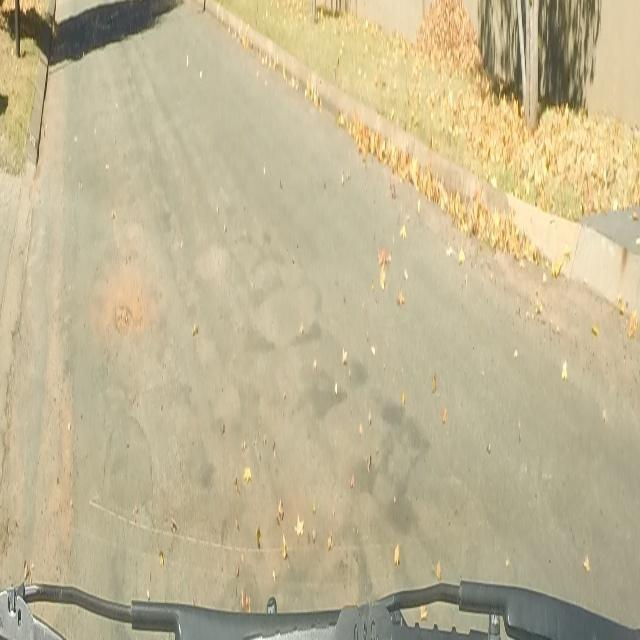pothole: (100, 255, 158, 348)
